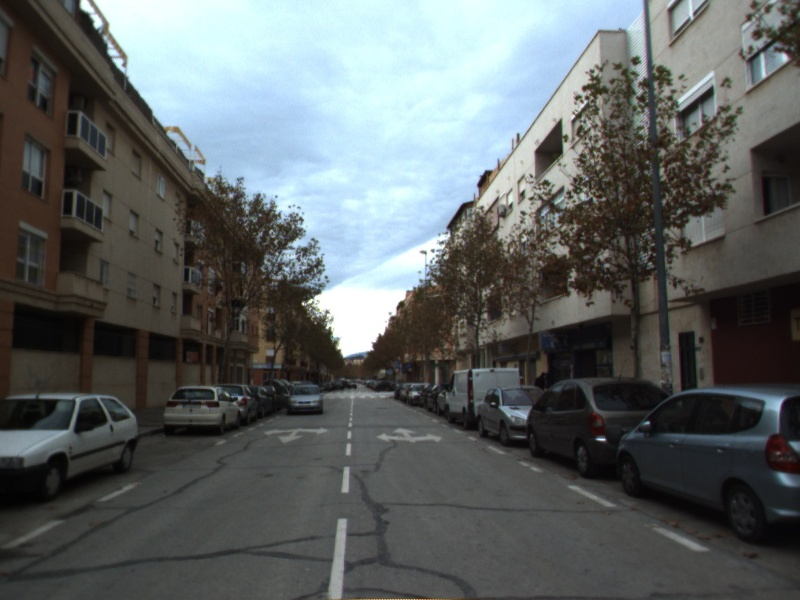STRAIGHT_LEFT_RIGHT: (374, 426, 444, 444)
